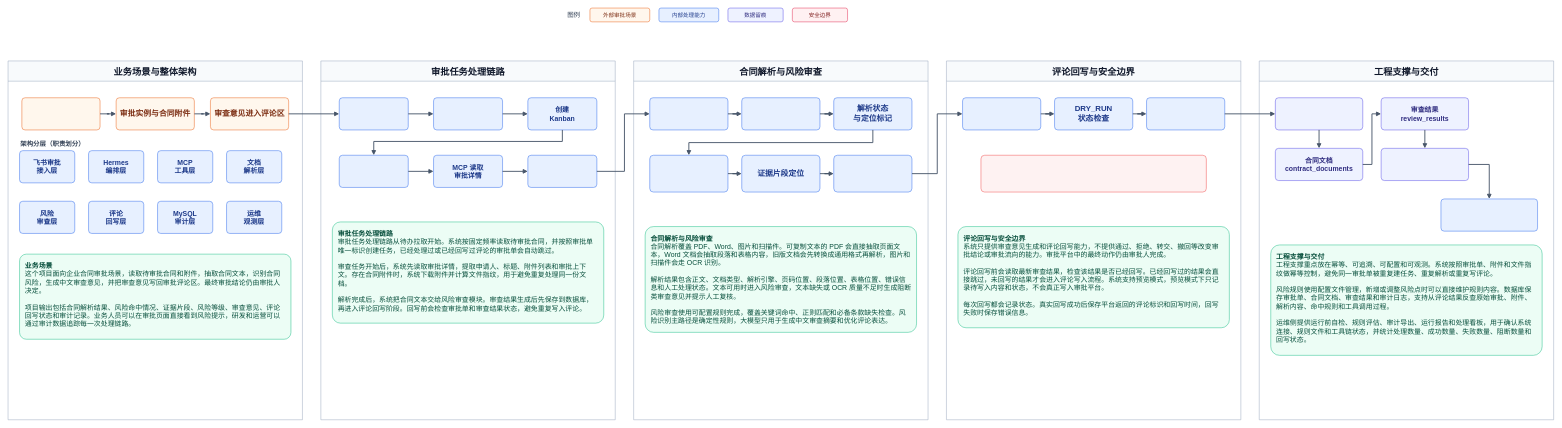
This 1562x428 diagram has some shape labels left out. Here are the shapes that lost their labels. From the top down, the centre of each, then its label:
At (x=60, y=113): "飞书审批待办".
At (x=373, y=113): "Cron 拉取 飞书待办".
At (x=468, y=113): "回写状态 去重检查".
At (x=688, y=113): "PDF / Word 文本抽取".
At (x=780, y=113): "可选 OCR 识别".
At (x=1001, y=113): "生成中文审查意见".
At (x=1185, y=113): "写入飞书 审批评论".
At (x=1319, y=113): "审批实例 contract_cases".
At (x=373, y=171): "Hermes 接管任务".
At (x=562, y=171): "下载附件 计算 SHA256".
At (x=688, y=173): "YAML 风险规则".
At (x=872, y=173): "整体风险等级".
At (x=1093, y=173): "安全边界：只写审查意见 审批结论由审批人决定".
At (x=1425, y=164): "审计日志 audit_logs".
At (x=1489, y=214): "自检 / 报告 / 看板".
